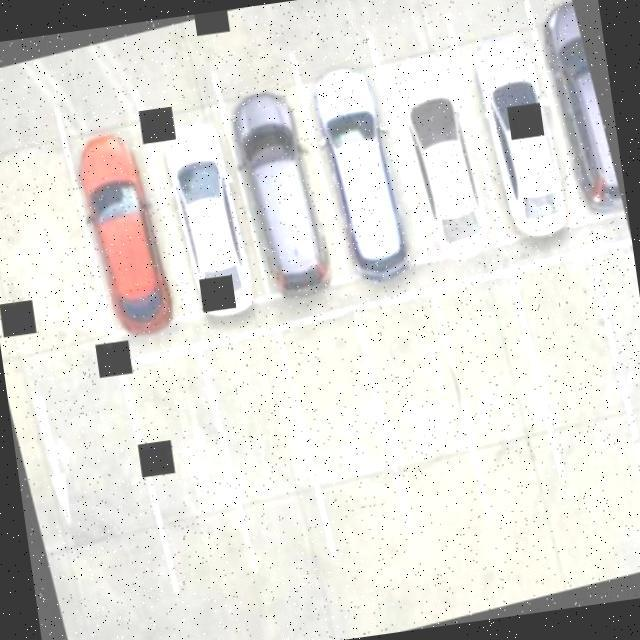Car: (296, 38, 428, 298), (380, 21, 508, 288), (60, 114, 197, 360), (456, 23, 586, 266), (222, 70, 348, 314), (148, 100, 274, 336), (513, 0, 625, 227)
Vacant: (443, 274, 572, 534), (201, 332, 335, 582), (515, 260, 640, 524), (283, 310, 408, 558), (124, 347, 250, 592), (360, 292, 486, 536), (582, 247, 640, 507)
